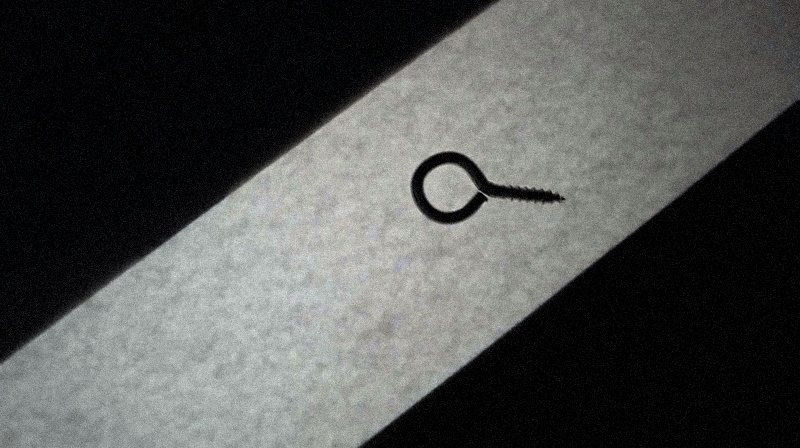O001: (408, 148, 571, 226)
